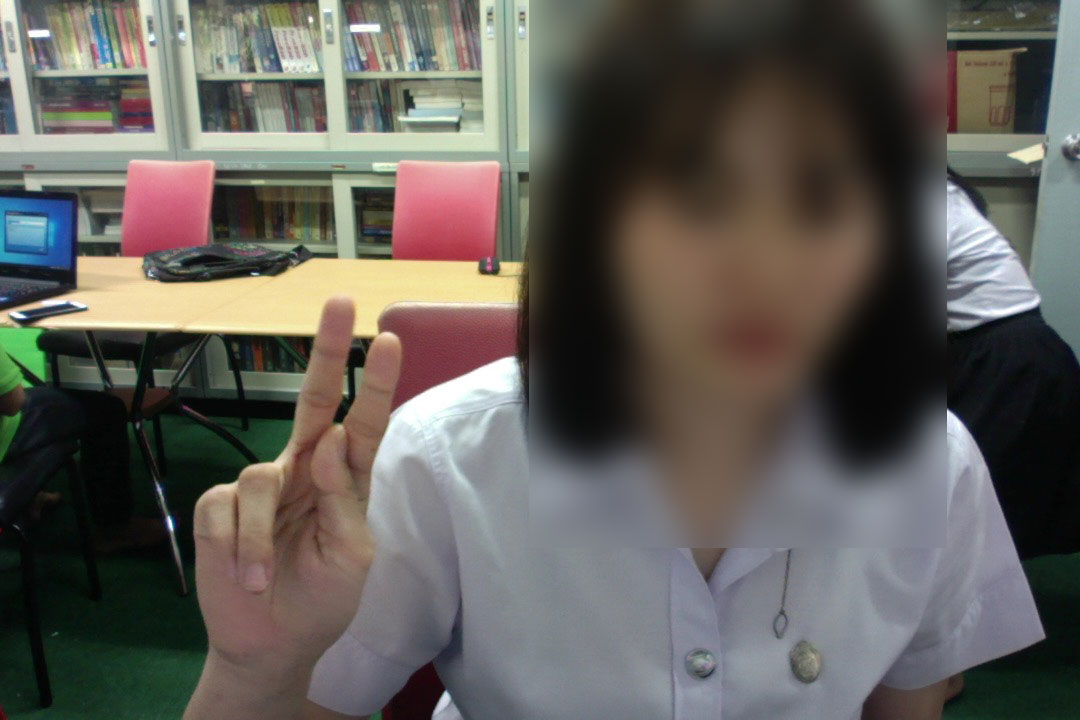ko: (185, 282, 410, 673)
